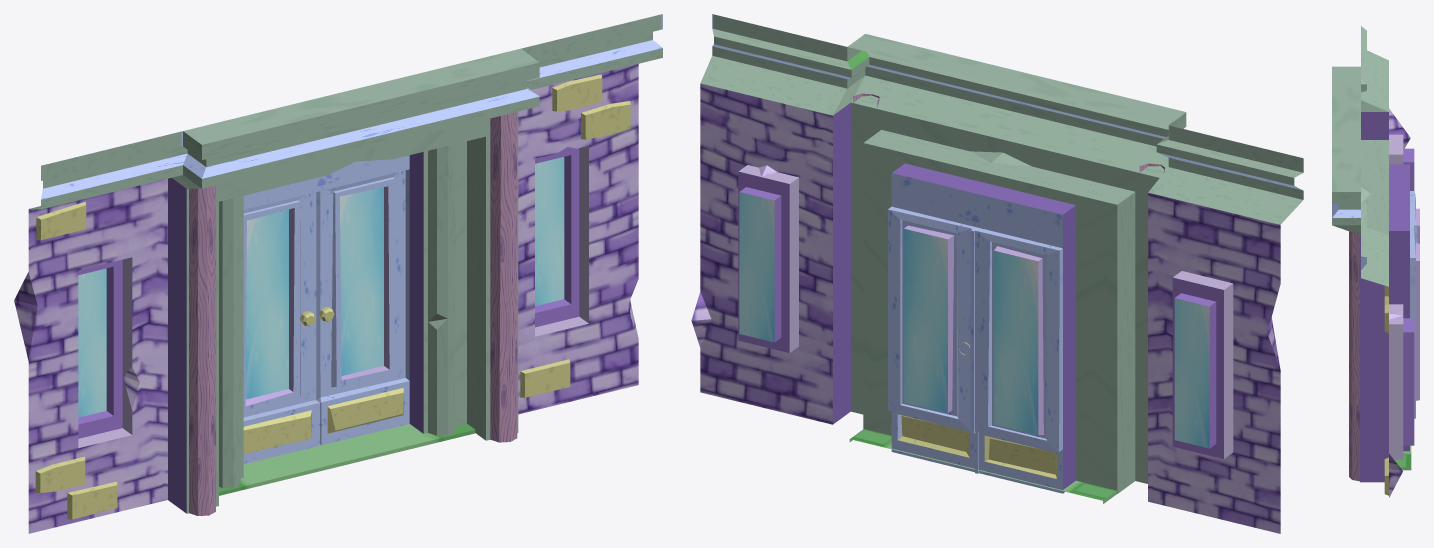
The model's file is House_Door_01.fbx.
3 renders of one model, left to right at view 1: azimuth 30°, elevation 25°; view 2: azimuth 150°, elevation 25°; view 3: azimuth 270°, elevation 25°, orthographic. The views are drawn at different scales.
Visible parts, largest first — view 1: SM_Bld_Apartment_Door_01; view 2: SM_Bld_Apartment_Door_01; view 3: SM_Bld_Apartment_Door_01.
Boxes of the visible parts, x1,y1,x2,y2 form: SM_Bld_Apartment_Door_01: (14, 14, 662, 533); SM_Bld_Apartment_Door_01: (691, 14, 1303, 533); SM_Bld_Apartment_Door_01: (1332, 26, 1419, 497).
Bounding box in the file's own units: 510 × 300 × 81.81.
